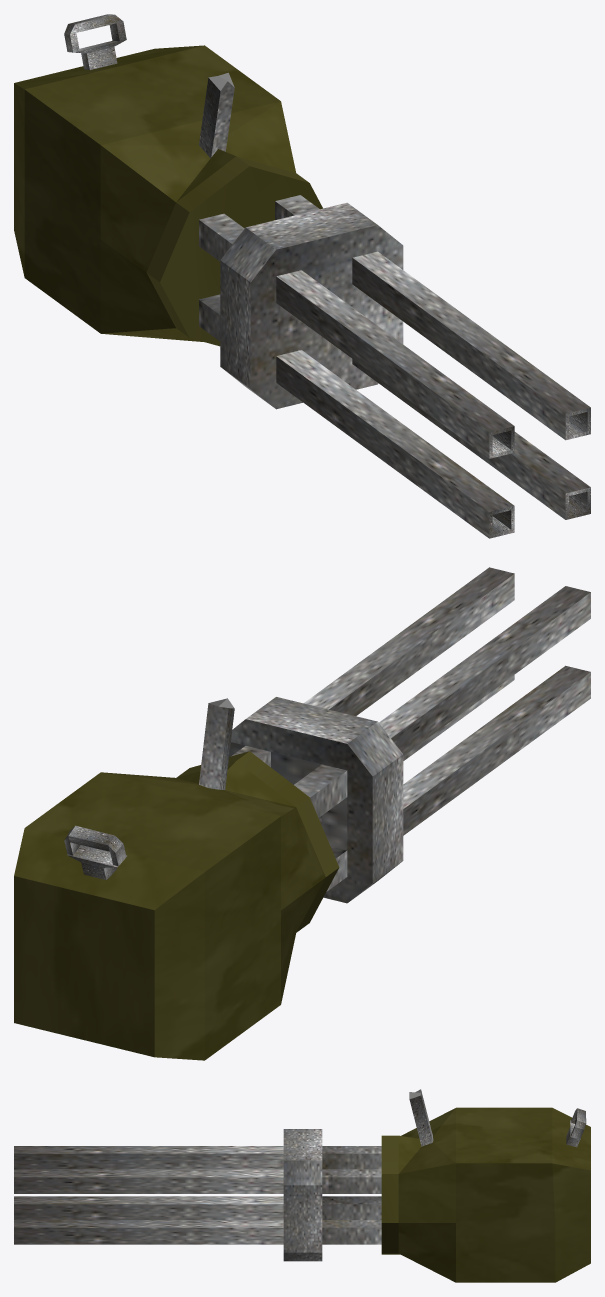
File: gatling.glb
3 views of the same model, one above another, from view 1: azimuth 30°, elevation 25°; view 2: azimuth 150°, elevation 25°; view 3: azimuth 270°, elevation 25° (orthographic). The views are drawn at different scales.
Parts seen in each view (by area): view 1: GatlingGun, Barrels; view 2: GatlingGun, Barrels; view 3: Barrels, GatlingGun.
Boxes of the visible parts, x1=… form: GatlingGun: x1=14, y1=14, x2=322, y2=346; Barrels: x1=199, y1=195, x2=590, y2=538; GatlingGun: x1=14, y1=698, x2=339, y2=1060; Barrels: x1=229, y1=567, x2=590, y2=903; Barrels: x1=14, y1=1129, x2=381, y2=1261; GatlingGun: x1=381, y1=1089, x2=590, y2=1282.
Size of the model in its own units: 0.8677 by 1.19 by 3.8.
2 materials, 2 textured.
